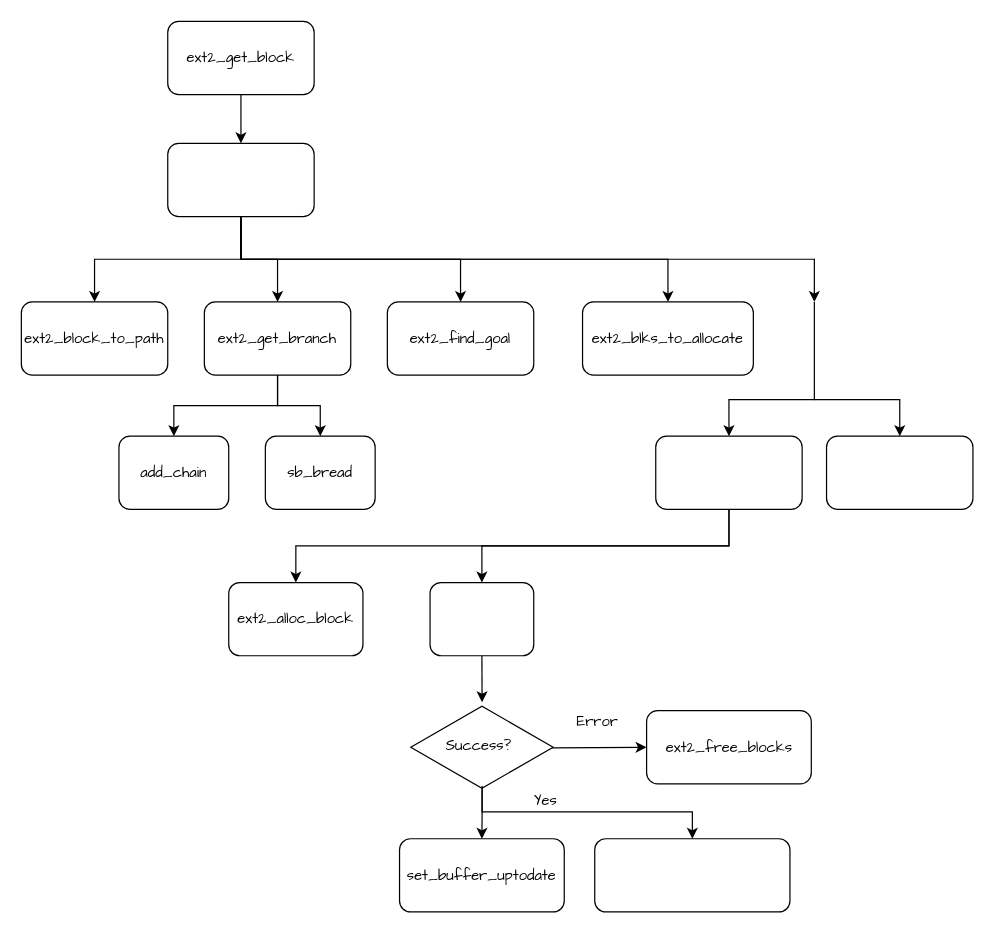
Some shapes in this 994 by 933 pixel diagram are drawn without their labels. Each missing label, with the box of its shape:
ext2_alloc_branch: (655, 435, 802, 509)
ext2_get_blocks: (167, 142, 314, 217)
ext2_splice_branch: (825, 435, 973, 509)
mark_buffer_dirty_inode: (594, 838, 790, 912)
sb_getblk: (429, 581, 534, 656)
